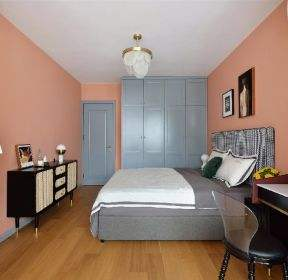床: (86, 165, 254, 244)
枕头: (198, 152, 258, 186)
灯: (119, 32, 155, 80), (53, 142, 67, 164)
